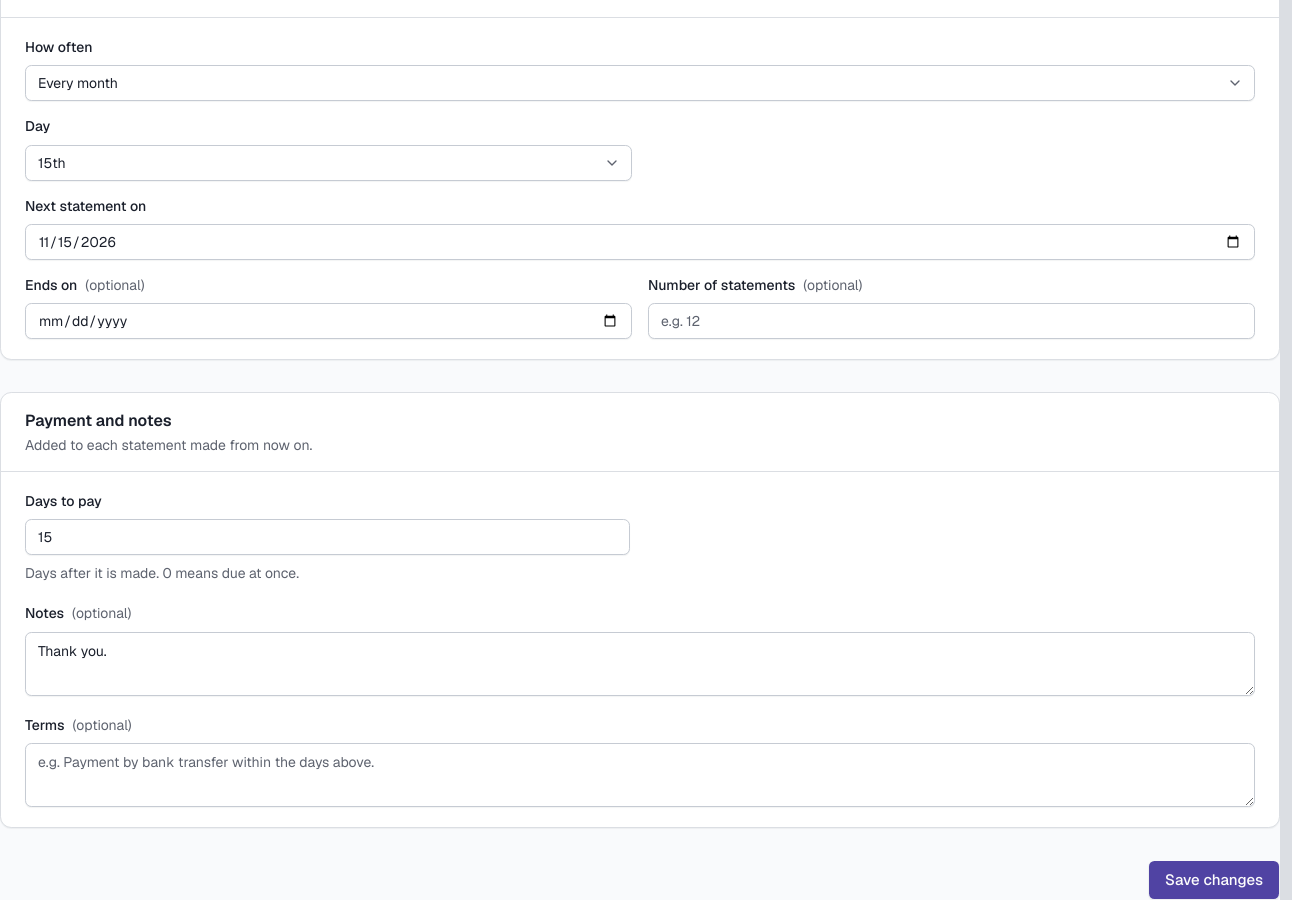
Test: the schedule's edit form › shows a problem next to its field and stays on the page
(page scrolled)
Step 1. Click the button "Save changes" → (1214, 880), box [1148,860,1280,899]
(page scrolled)
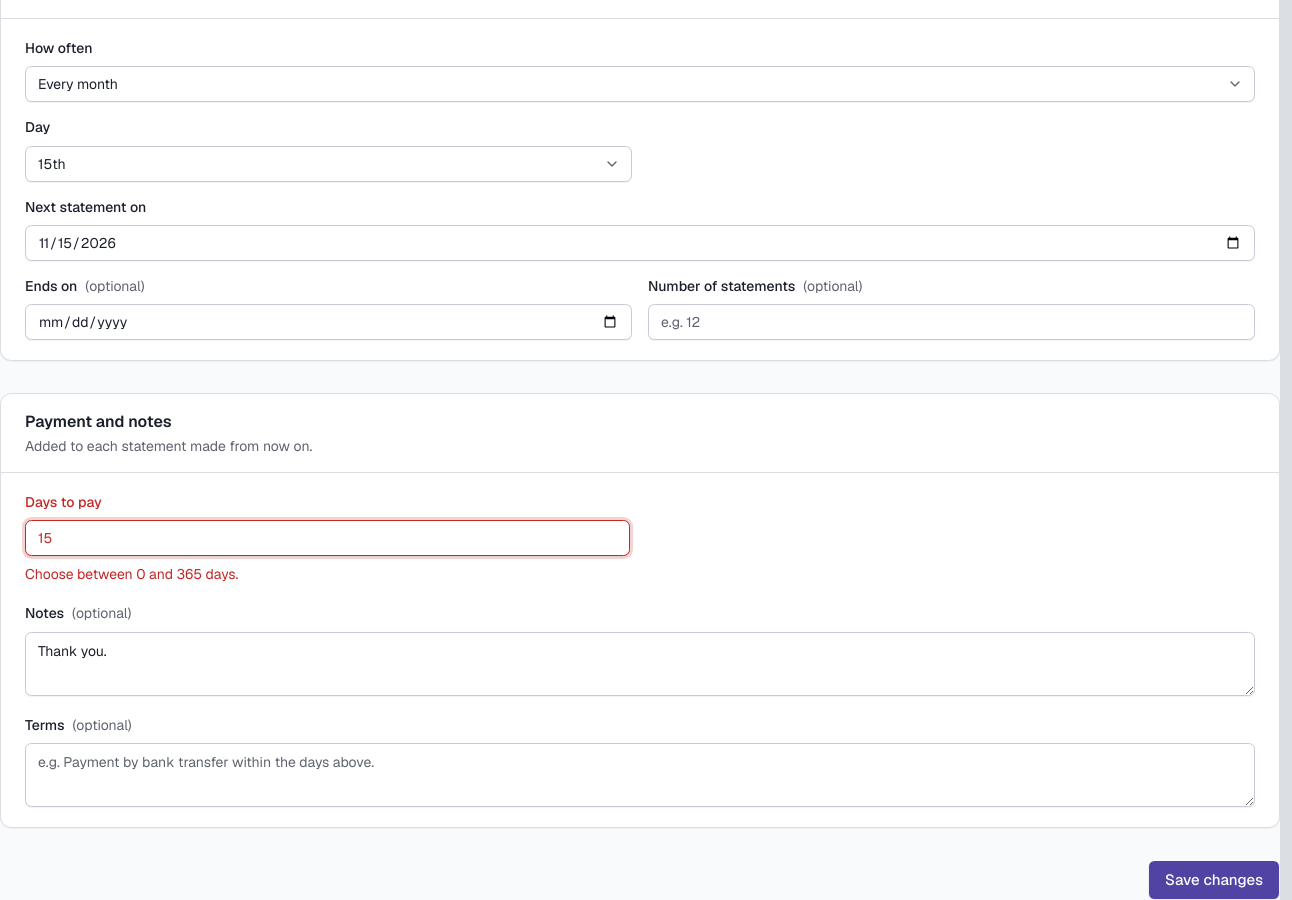
Expected: the text "Choose between 0 and 365 days." is shown, [25,565,238,583]
